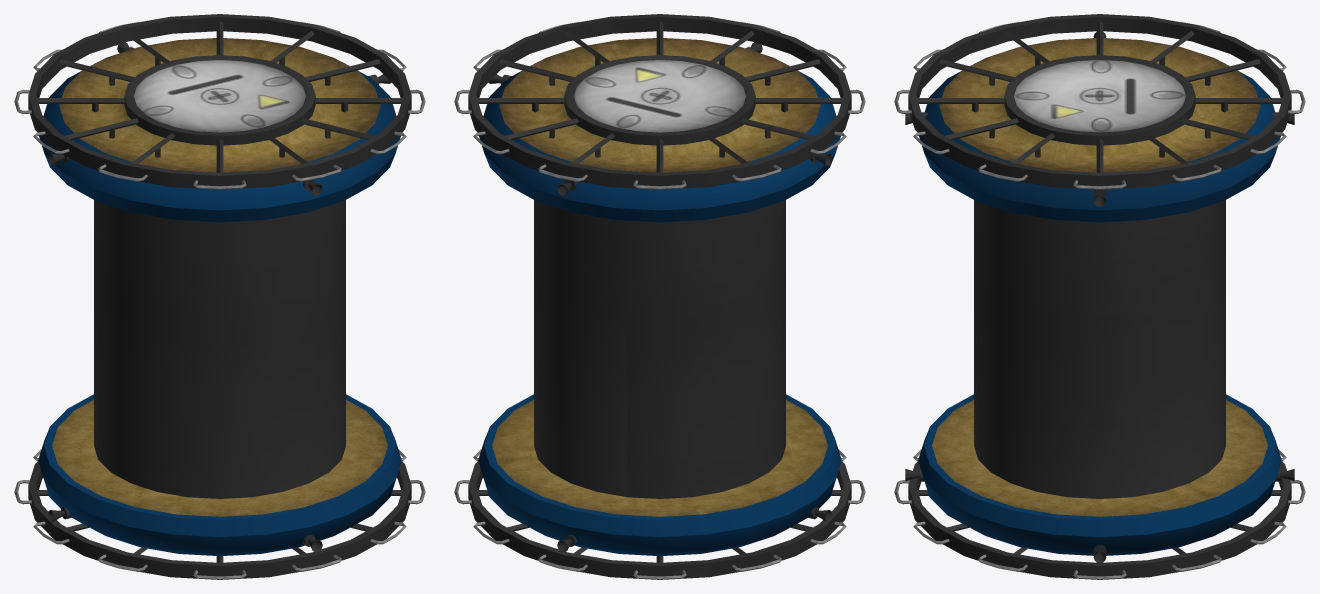
File: Spindle.FBX
3 renders of one model, left to right at view 1: azimuth 30°, elevation 25°; view 2: azimuth 150°, elevation 25°; view 3: azimuth 270°, elevation 25°, orthographic.
Visible parts, largest first — view 1: Cylinder002, EndCap001, EndCap002, StructuralRing001, StructuralRing002; view 2: Cylinder002, EndCap001, EndCap002, StructuralRing001, StructuralRing002; view 3: Cylinder002, EndCap001, EndCap002, StructuralRing001, StructuralRing002.
Boxes of the visible parts, x1,y1,x2,y2 form: Cylinder002: [94, 200, 345, 498]; EndCap001: [39, 38, 400, 222]; EndCap002: [38, 394, 401, 556]; StructuralRing001: [28, 14, 411, 189]; StructuralRing002: [28, 461, 411, 579]; Cylinder002: [534, 200, 785, 498]; EndCap001: [479, 38, 840, 222]; EndCap002: [478, 394, 841, 556]; StructuralRing001: [468, 14, 851, 189]; StructuralRing002: [468, 461, 851, 579]; Cylinder002: [974, 200, 1225, 498]; EndCap001: [919, 38, 1280, 222]; EndCap002: [918, 394, 1281, 555]; StructuralRing001: [908, 14, 1291, 189]; StructuralRing002: [908, 461, 1291, 579].
Size of what is drawn, in the model's own units: 2.68 by 2.68 by 2.91.
1 material, 1 textured.
